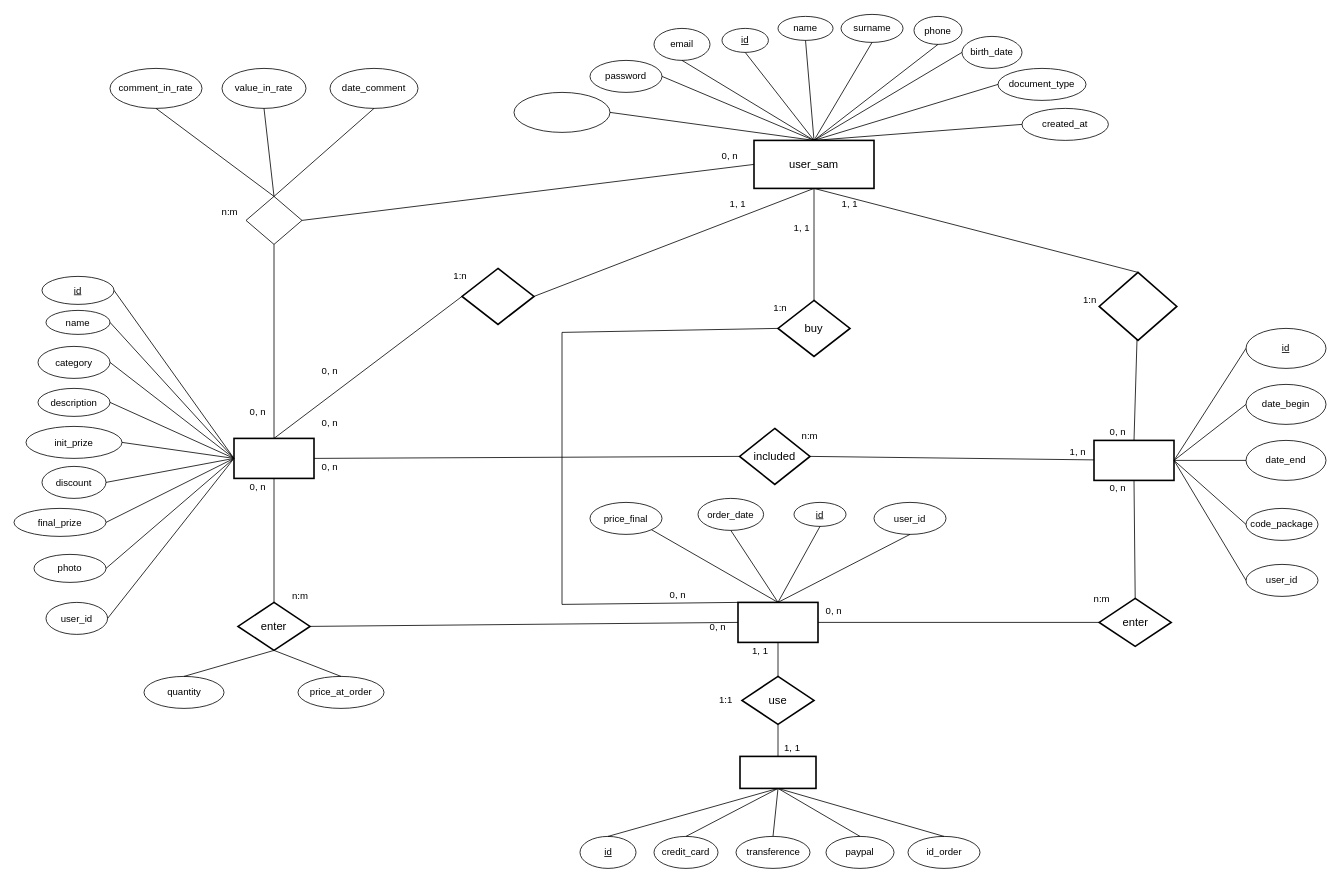
Some shapes in this 1340 by 882 pixel diagram are drawn without their labels. The shapes that lost their labels are listed below. From the top down, each one's centre as x and y in pixels, then its label:
At point (561, 112): "document_number".
At point (273, 220): "rate".
At point (497, 296): "create".
At point (1137, 306): "generate".
At point (273, 458): "product".
At point (1133, 460): "package".
At point (777, 622): "order_final".
At point (777, 772): "pay_method".
